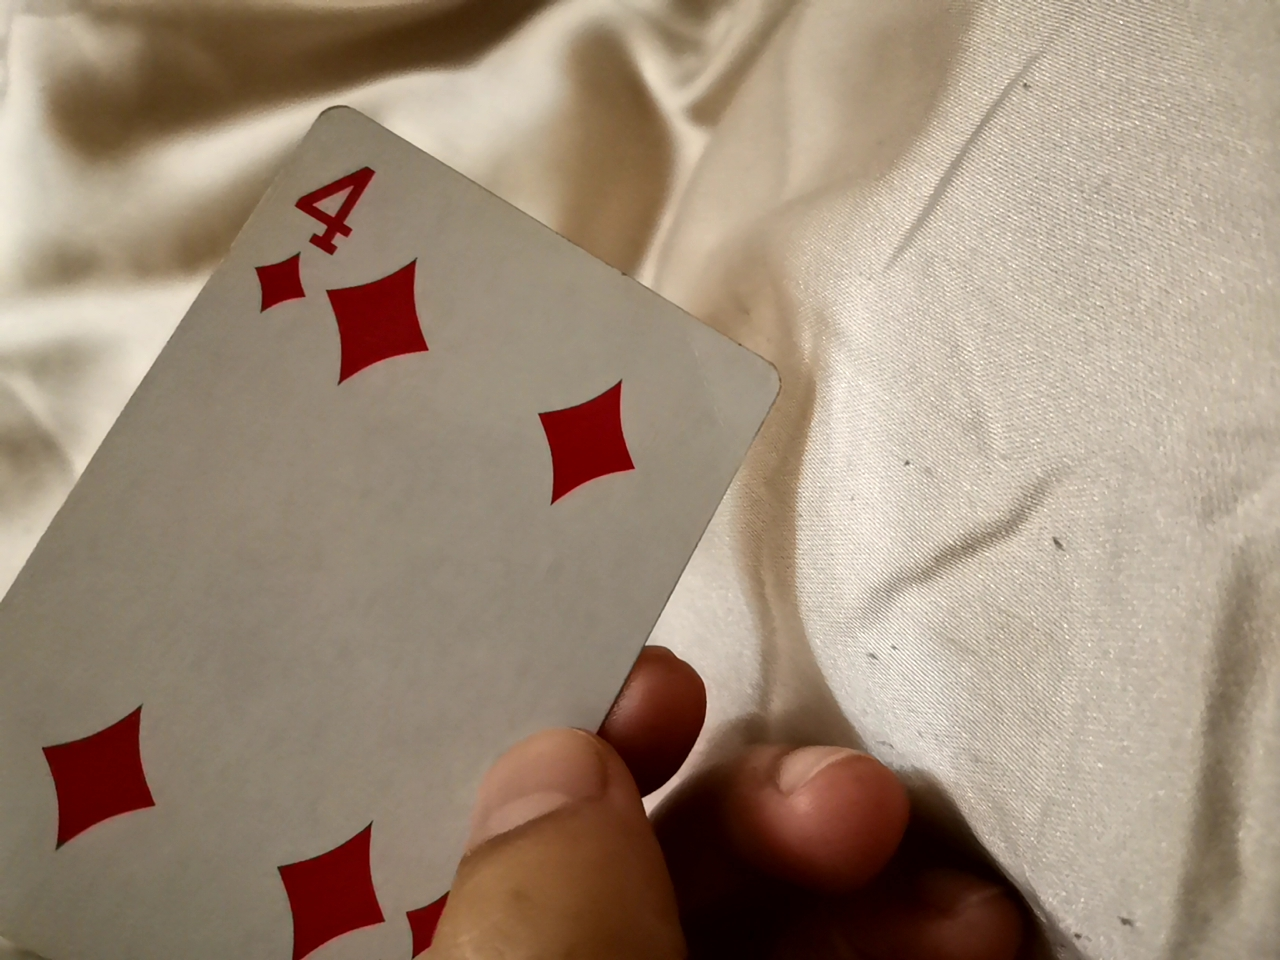fk 4: (5, 55, 777, 951)
